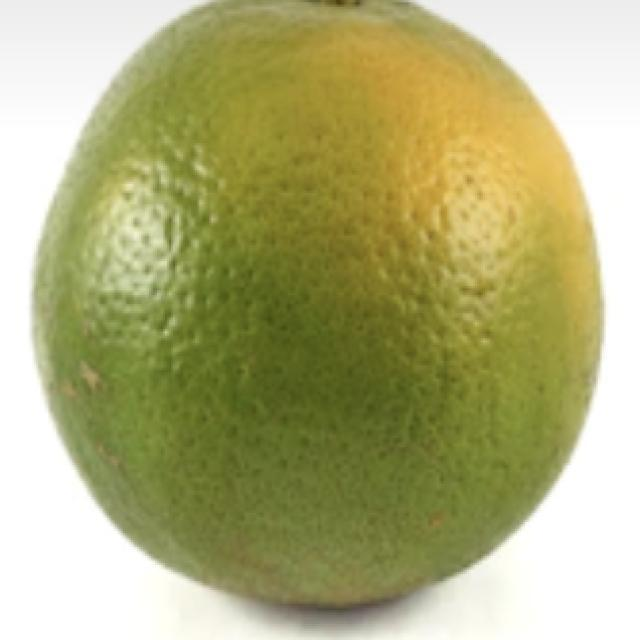Orange: (29, 0, 605, 610)
